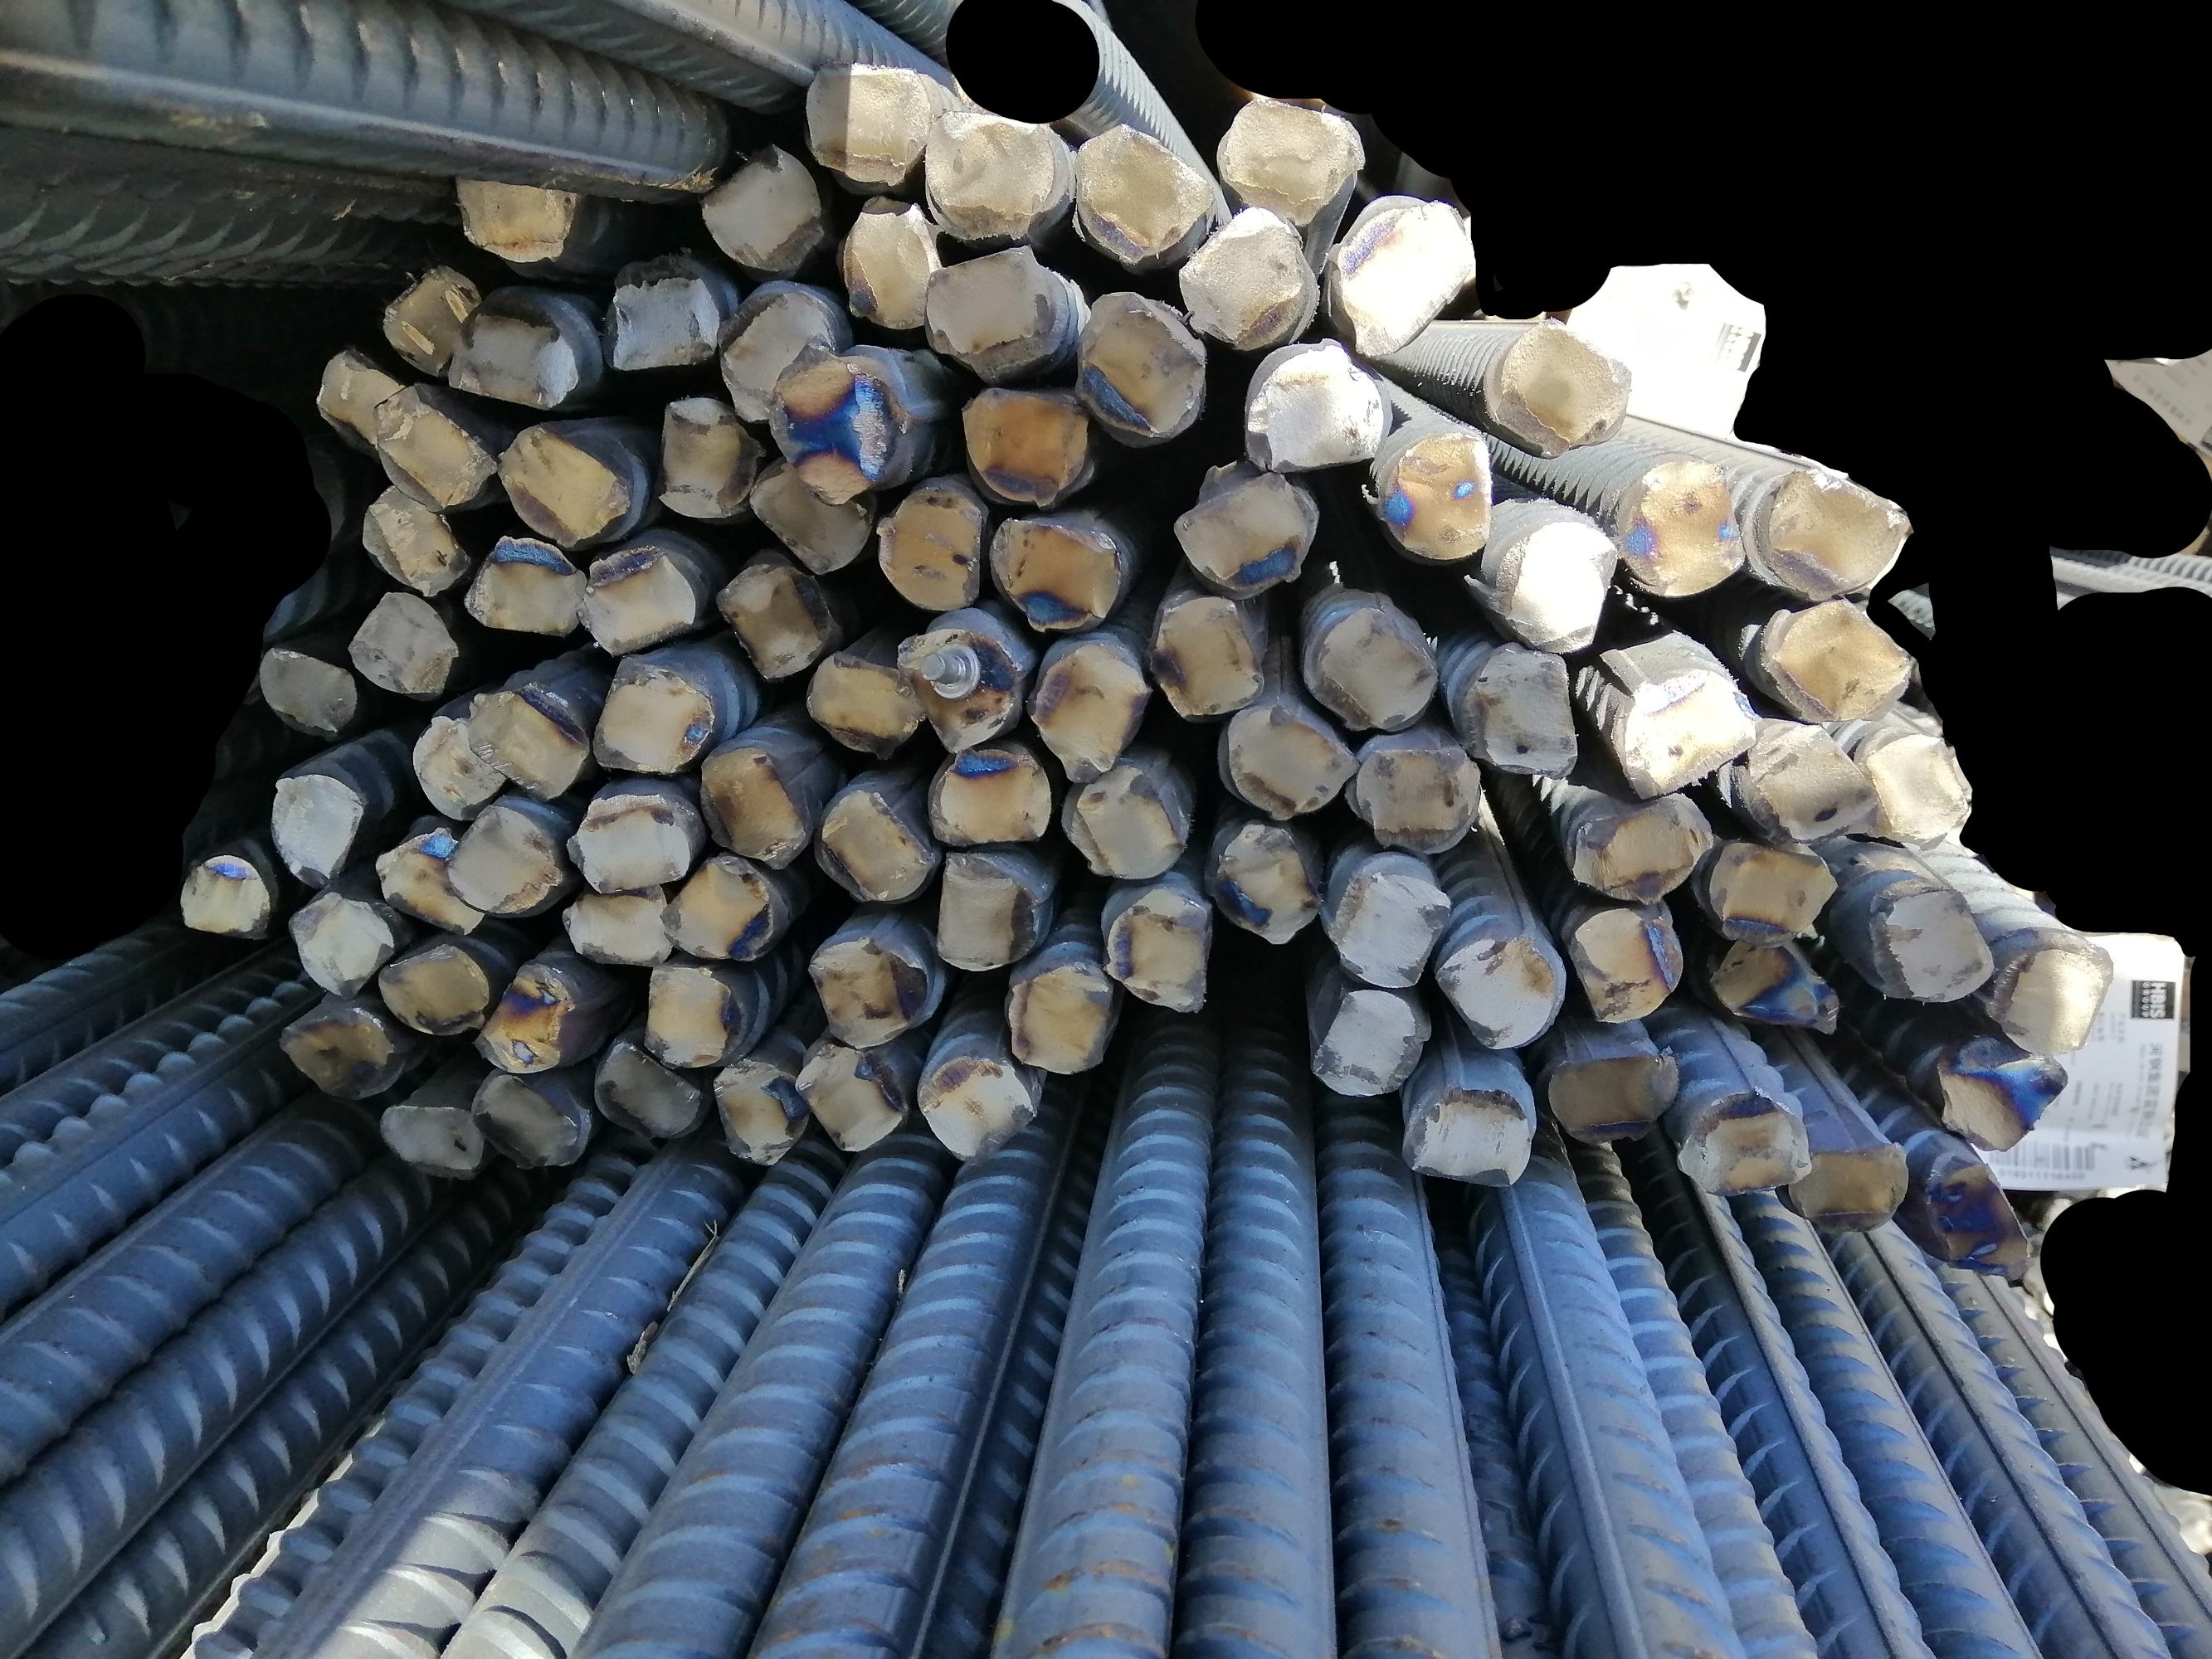rebar: (1335, 188, 1485, 359), (763, 340, 903, 507), (1757, 464, 1914, 603), (1075, 286, 1210, 444), (1072, 120, 1215, 267), (1761, 601, 1921, 728), (924, 246, 1063, 387), (1220, 92, 1370, 223), (1245, 340, 1386, 477), (1614, 667, 1759, 802), (1173, 458, 1314, 594), (1300, 599, 1442, 735), (1616, 458, 1750, 601), (1731, 716, 1876, 849), (1178, 206, 1316, 343), (920, 110, 1058, 246), (1368, 420, 1496, 566), (1489, 511, 1616, 657), (800, 51, 934, 186), (1027, 643, 1154, 784), (1490, 315, 1616, 458), (957, 380, 1096, 507), (1454, 647, 1581, 786), (1569, 788, 1715, 908), (1928, 1030, 2074, 1150), (1215, 702, 1358, 824), (586, 653, 720, 781), (713, 284, 837, 422), (443, 148, 587, 265), (894, 620, 1020, 755), (716, 551, 840, 685), (701, 145, 826, 275), (1435, 924, 1560, 1054), (800, 640, 931, 763), (1675, 1084, 1815, 1199), (1562, 901, 1689, 1026), (1398, 1077, 1534, 1194), (1855, 720, 1971, 856), (1347, 741, 1485, 856), (748, 450, 875, 573), (1991, 931, 2113, 1060), (363, 383, 493, 504), (988, 516, 1123, 633), (837, 190, 945, 335), (1872, 880, 1992, 1007), (497, 423, 626, 542), (694, 739, 812, 868), (446, 298, 580, 411), (812, 779, 934, 903), (1923, 1159, 2039, 1288), (1152, 589, 1267, 720), (1328, 866, 1452, 986), (1206, 816, 1323, 943), (652, 396, 767, 523), (1063, 767, 1191, 882), (875, 484, 987, 615), (1102, 882, 1211, 1014), (1546, 1042, 1680, 1150), (913, 1051, 1037, 1166), (464, 685, 589, 798), (572, 547, 701, 657), (1708, 840, 1837, 950), (805, 934, 931, 1046), (933, 842, 1041, 971), (657, 852, 777, 967), (927, 744, 1053, 854), (1311, 986, 1433, 1098), (1710, 934, 1844, 1035), (1002, 958, 1114, 1079), (460, 533, 584, 641), (793, 1040, 906, 1157), (352, 483, 471, 594), (568, 793, 692, 899), (284, 885, 397, 1000), (375, 826, 490, 939), (444, 805, 561, 917), (260, 767, 364, 889), (1781, 1134, 1912, 1232), (380, 260, 486, 378), (274, 1006, 399, 1105), (472, 962, 577, 1080), (603, 267, 722, 371), (349, 587, 458, 699), (471, 1072, 587, 1176), (589, 1039, 706, 1141), (708, 1053, 809, 1168), (309, 345, 410, 458), (373, 945, 490, 1042), (406, 711, 509, 821), (640, 962, 741, 1070), (560, 884, 675, 971), (256, 645, 359, 739), (178, 849, 274, 945), (383, 1089, 481, 1180)
